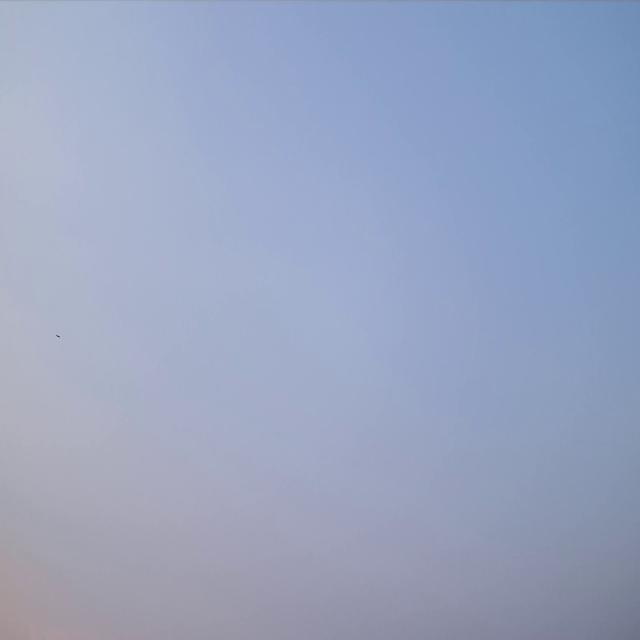UAV: (56, 334, 60, 338)
